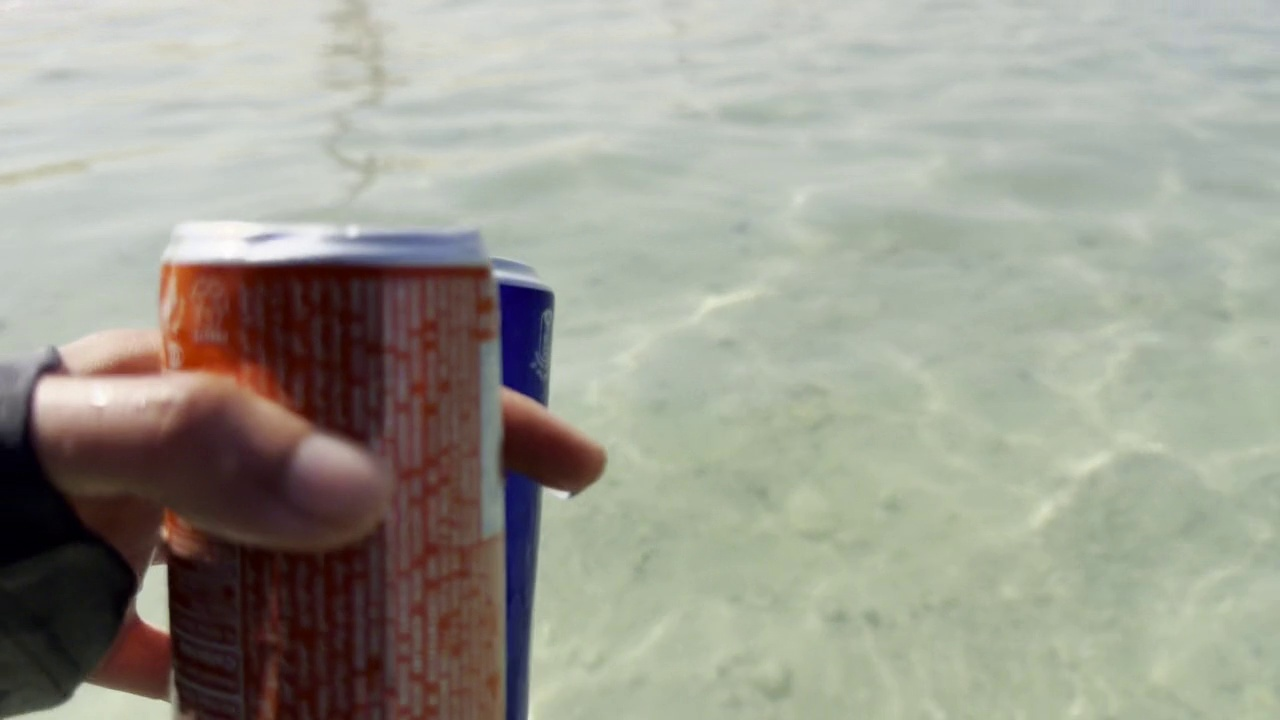debris: (152, 198, 519, 720), (278, 256, 568, 720)
